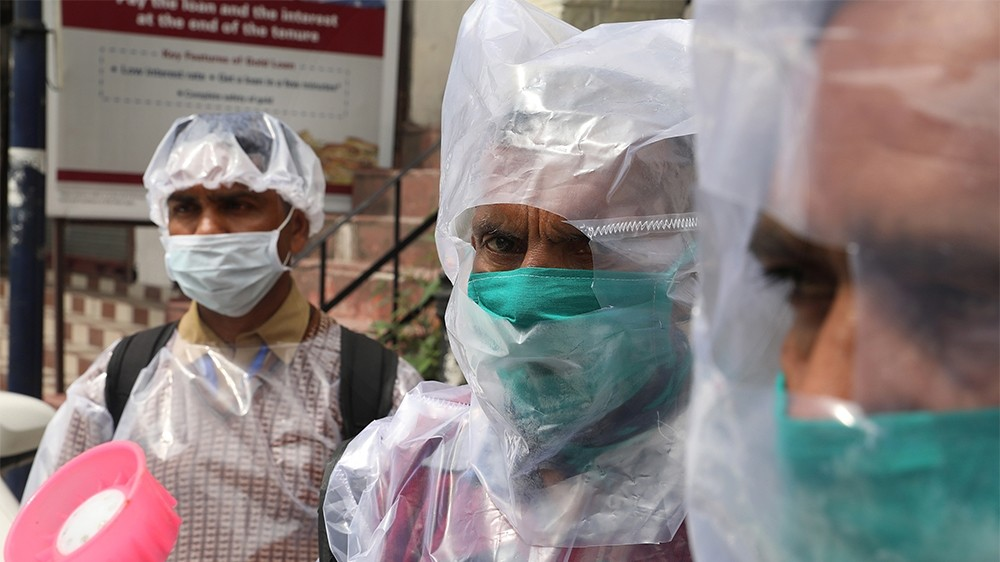with_mask: (752, 235, 1000, 562), (471, 223, 671, 411), (161, 193, 287, 316)
